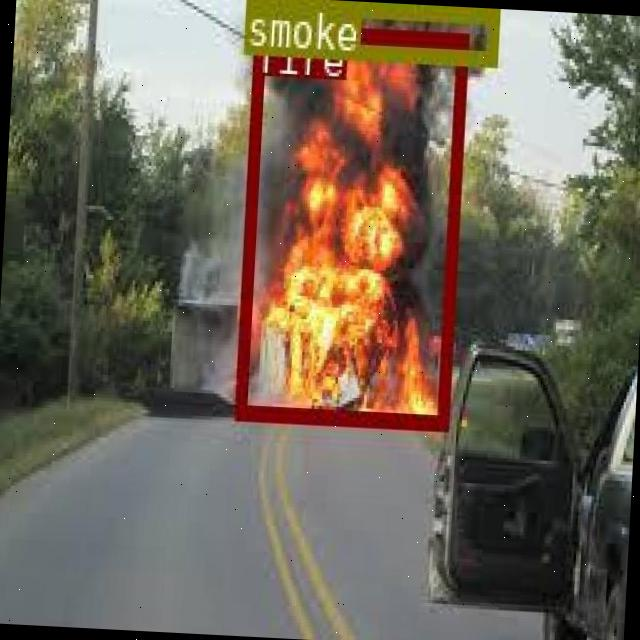fire: (234, 20, 466, 428)
smoke: (244, 0, 498, 62)
